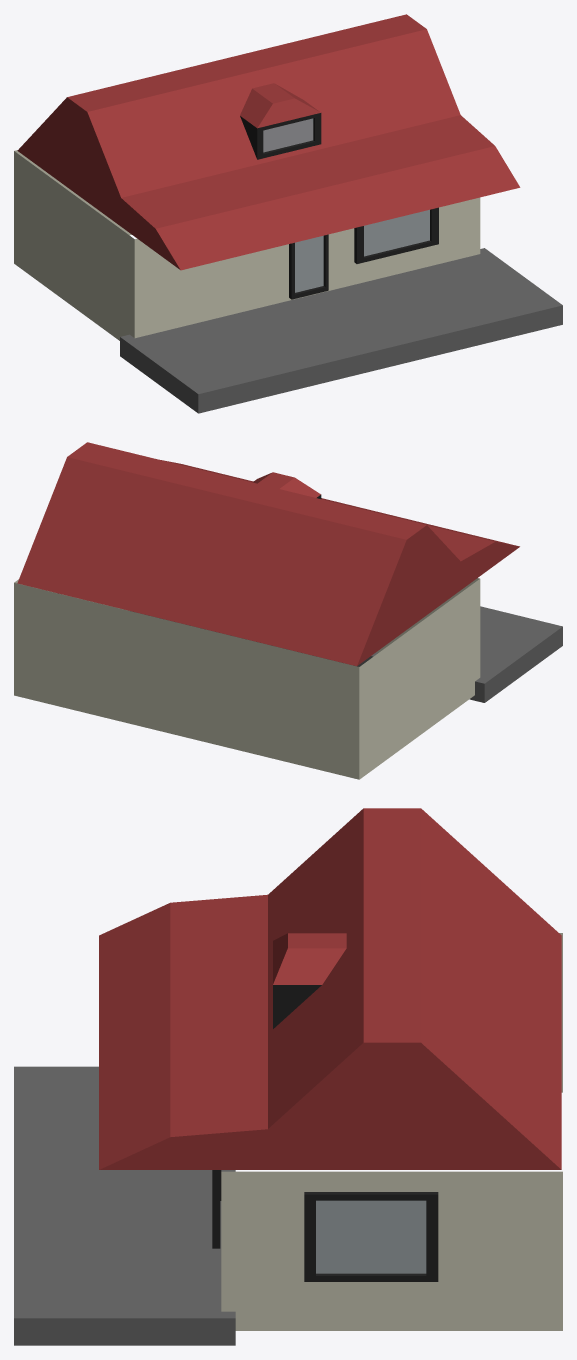
Rendered from Asset_House02.fbx.
3 views of the same model, one above another, from view 1: azimuth 30°, elevation 25°; view 2: azimuth 150°, elevation 25°; view 3: azimuth 270°, elevation 25° (orthographic). The views are drawn at different scales.
Visible parts, largest first — view 1: polySurface251; view 2: polySurface251; view 3: polySurface251.
Part boxes in pixels (bbox=[...]): polySurface251: bbox=[14, 14, 562, 413]; polySurface251: bbox=[14, 442, 562, 779]; polySurface251: bbox=[14, 808, 562, 1345].
Size of the model in its own units: 1599 by 872 by 1474.
